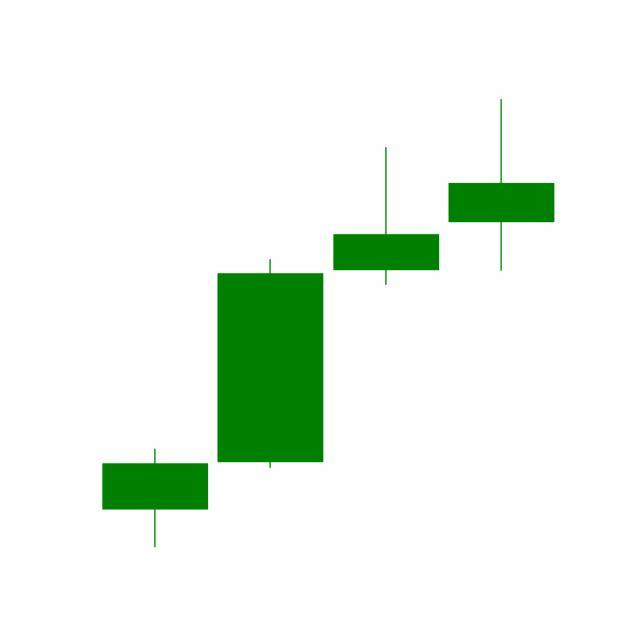Advance Block: (211, 100, 555, 474)
